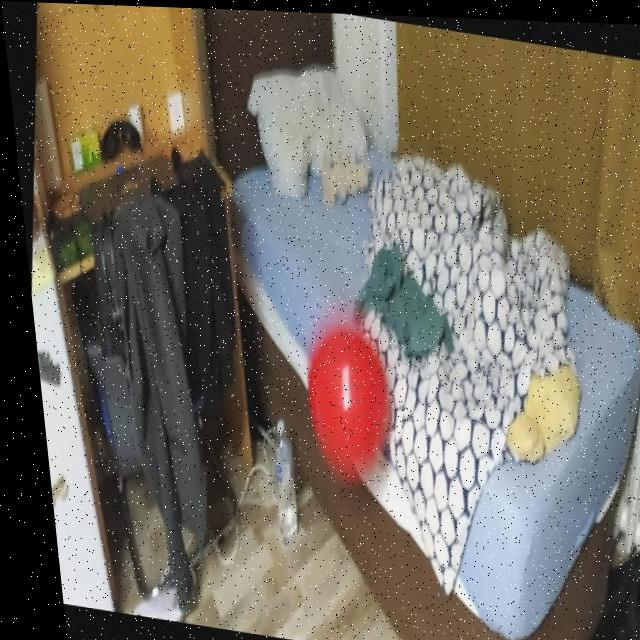balloon: (278, 307, 402, 492)
